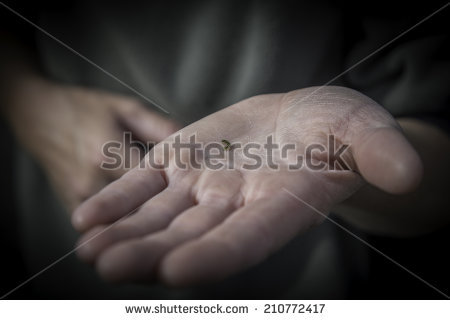palm: (199, 93, 335, 204)
